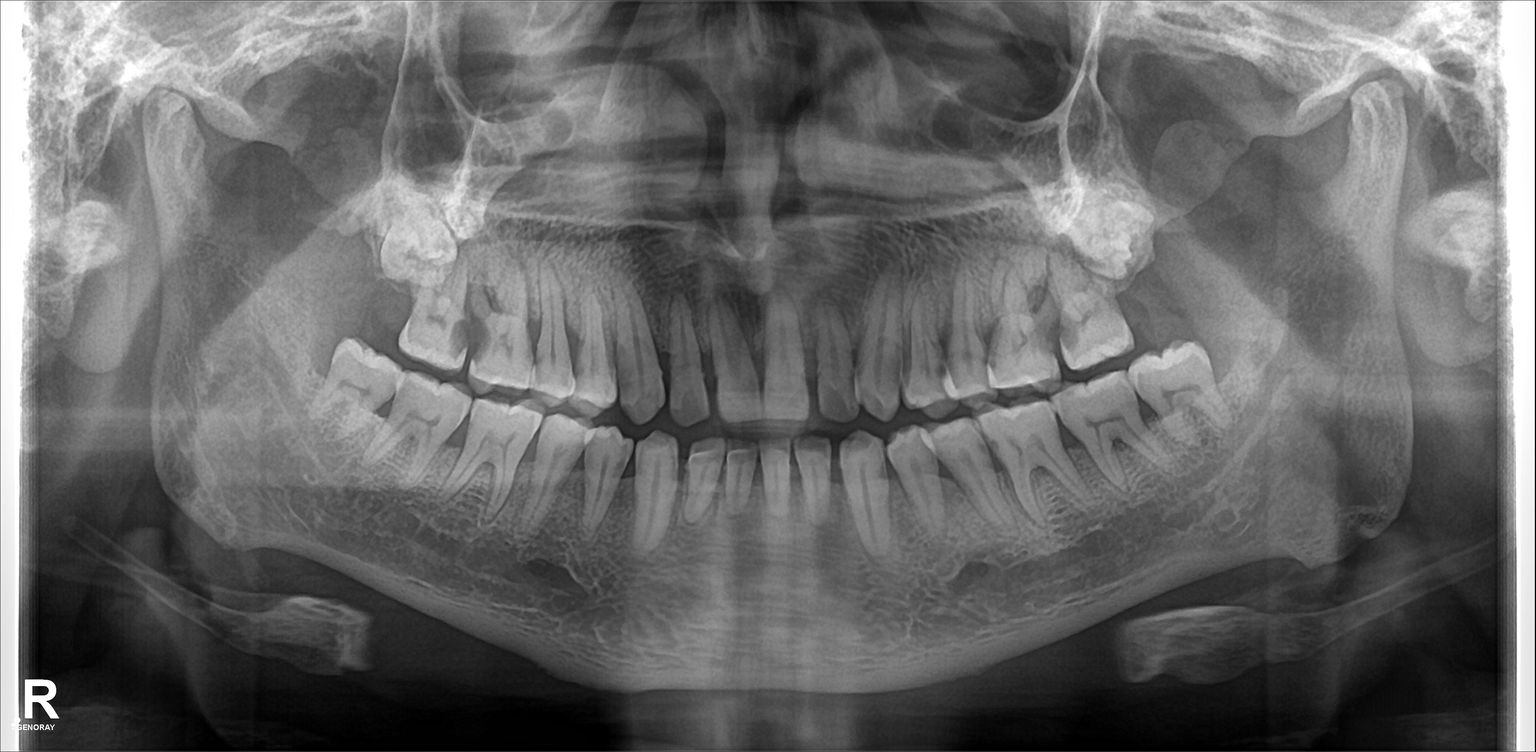Dental Caries: (453, 315, 492, 361)
Impacted Third Molar: (320, 344, 396, 431), (1143, 336, 1211, 432), (1073, 195, 1146, 271), (387, 207, 460, 280)
